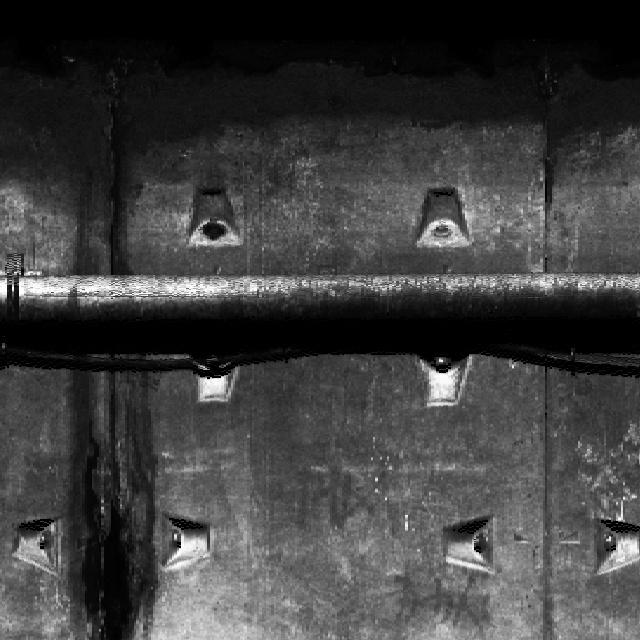leakage: (0, 0, 639, 160), (54, 351, 158, 638), (1, 164, 165, 271)
